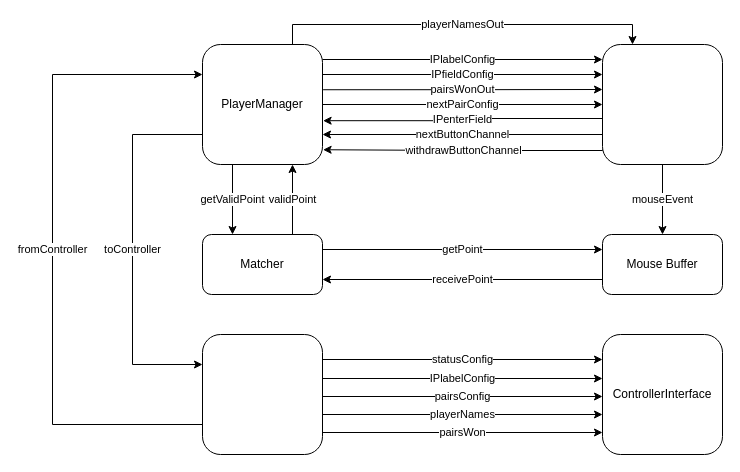
Some shapes in this 740 by 472 pixel diagram are drawn without their labels. The shapes that lost their labels are listed below. From the top down, each one's box as (x1, y1, x2, y2) in pixels, then its label:
(602, 44, 722, 164): PlayerInterface
(202, 334, 322, 454): ControllerManager
